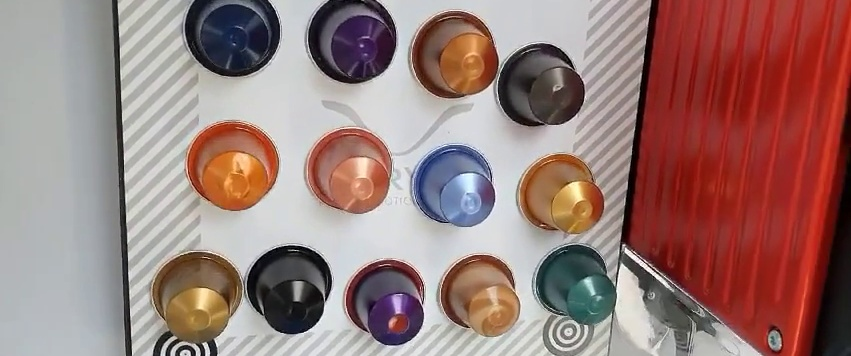capsule_1: (184, 1, 284, 78)
capsule_10: (242, 242, 335, 335)
capsule_11: (343, 258, 426, 347)
capsule_12: (438, 253, 521, 341)
capsule_13: (528, 240, 618, 326)
capsule_2: (308, 1, 400, 88)
capsule_3: (410, 11, 500, 99)
capsule_4: (495, 38, 585, 132)
capsule_5: (183, 119, 279, 209)
capsule_6: (303, 125, 395, 215)
capsule_7: (409, 144, 497, 230)
capsule_8: (517, 153, 605, 235)
capsule_9: (152, 249, 243, 343)
